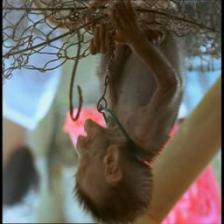monkey: (66, 115, 156, 223)
